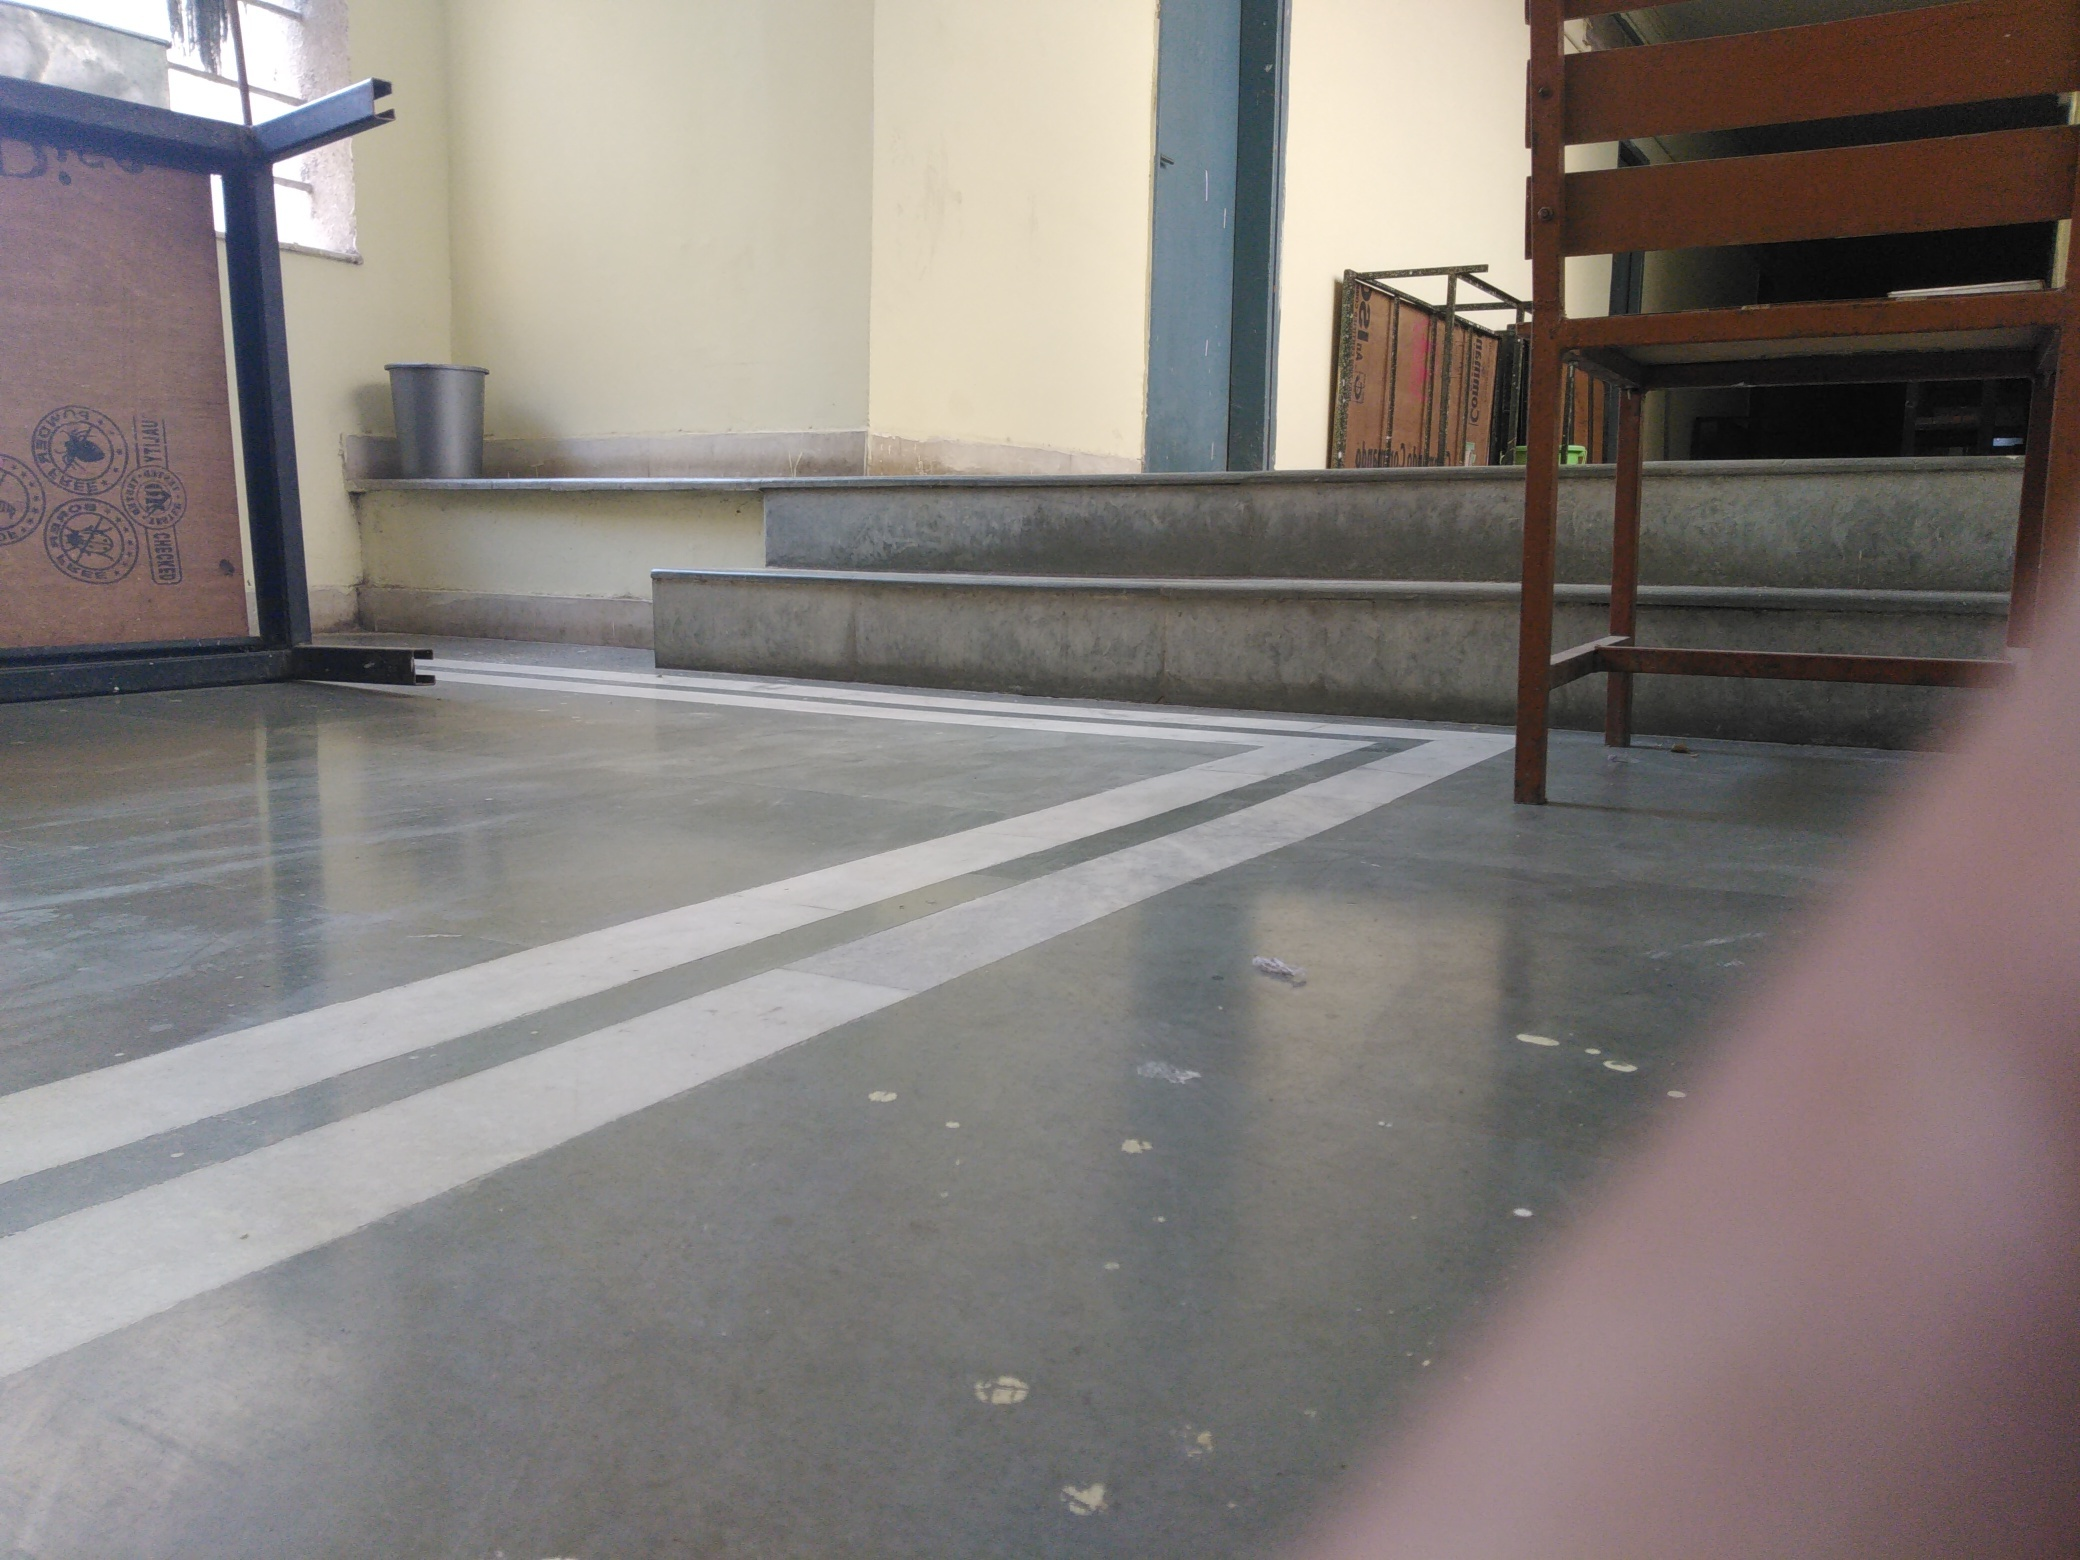stairs_up: (644, 469, 1512, 701)
